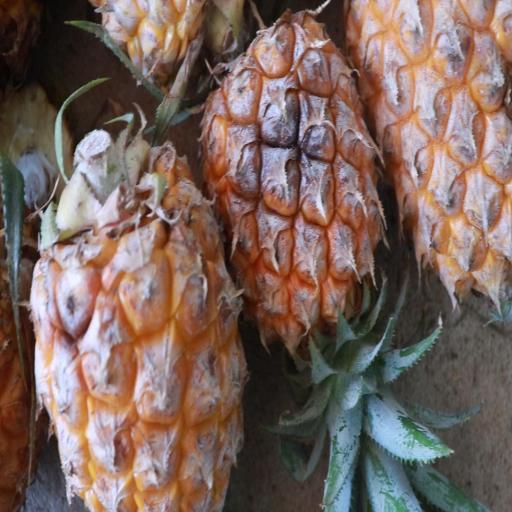Pineapple - v8 v1: (33, 120, 250, 510), (196, 8, 394, 392)
